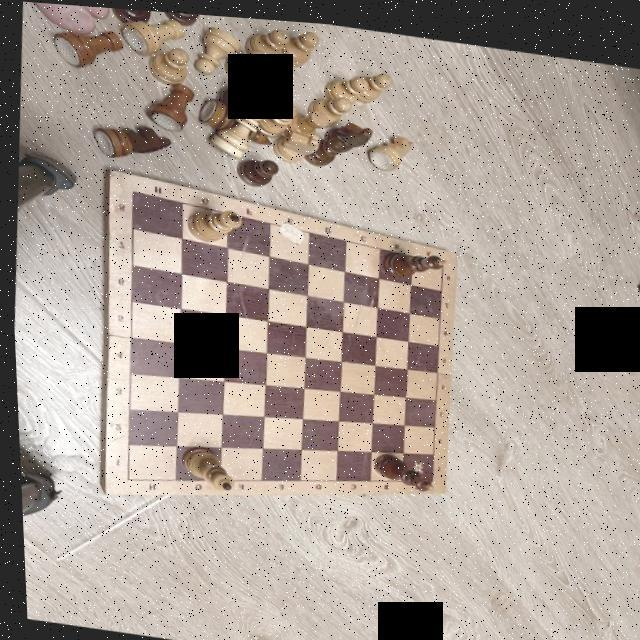chess-table-corners: (119, 474, 128, 482), (126, 186, 134, 192), (424, 472, 429, 477)
